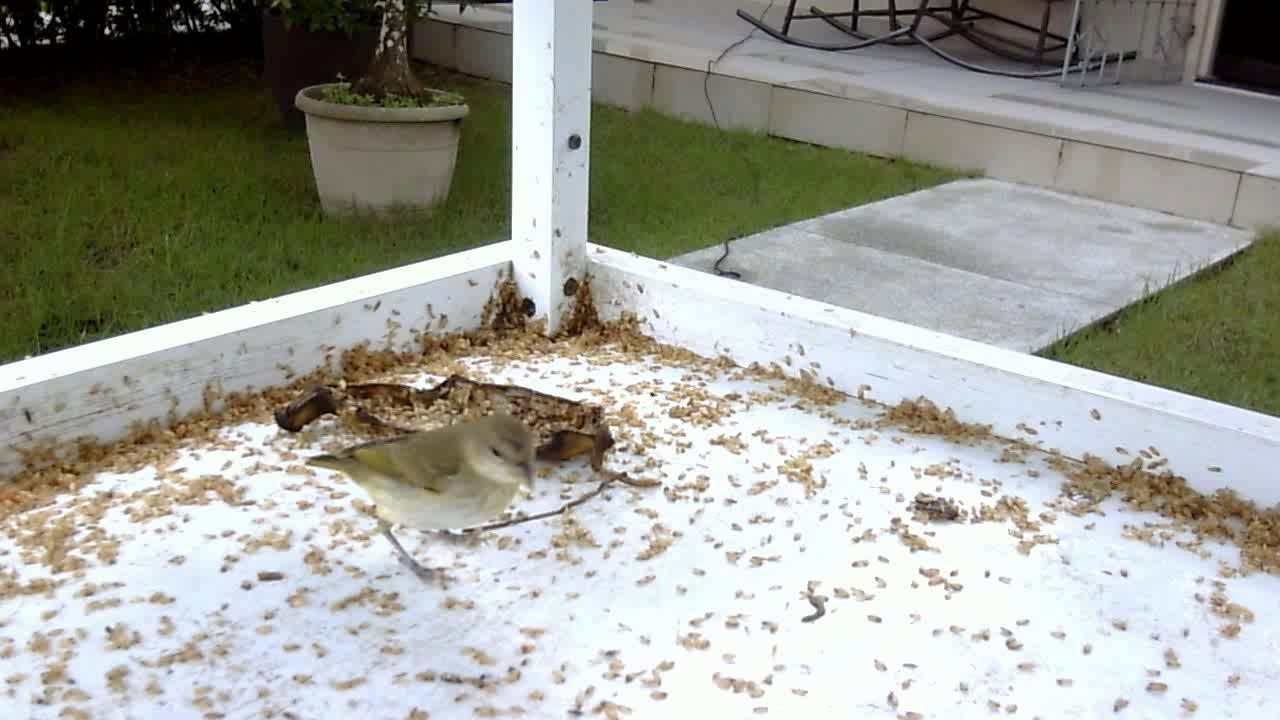canario_do_amazonas: (279, 412, 581, 592)
